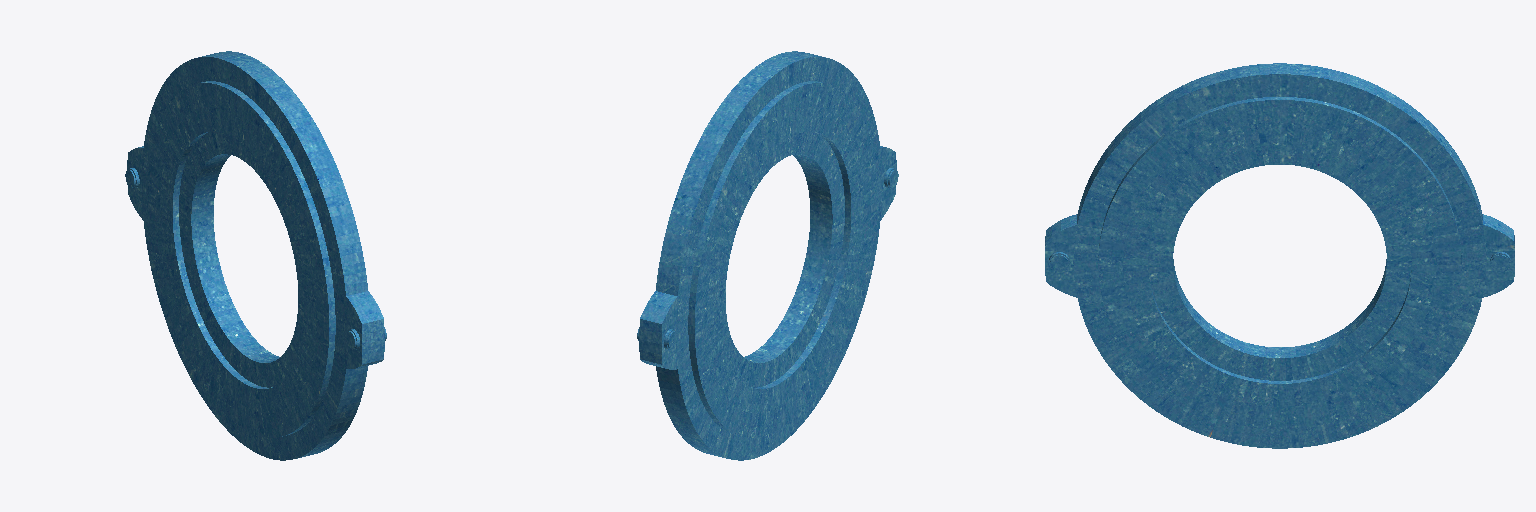
3 views of the same model, side by side, from view 1: azimuth 30°, elevation 25°; view 2: azimuth 150°, elevation 25°; view 3: azimuth 270°, elevation 25° (orthographic).
Parts seen in each view (by area): view 1: Cylinder.037; view 2: Cylinder.037; view 3: Cylinder.037.
Boxes of the visible parts, box(x1,y1,x2,y2) form: Cylinder.037: box(125, 51, 386, 460); Cylinder.037: box(637, 51, 898, 460); Cylinder.037: box(1045, 63, 1514, 448).
Bounding box in the file's own units: 0.0031 × 0.0318 × 0.0362.
Materials: 1 (1 with a texture image).